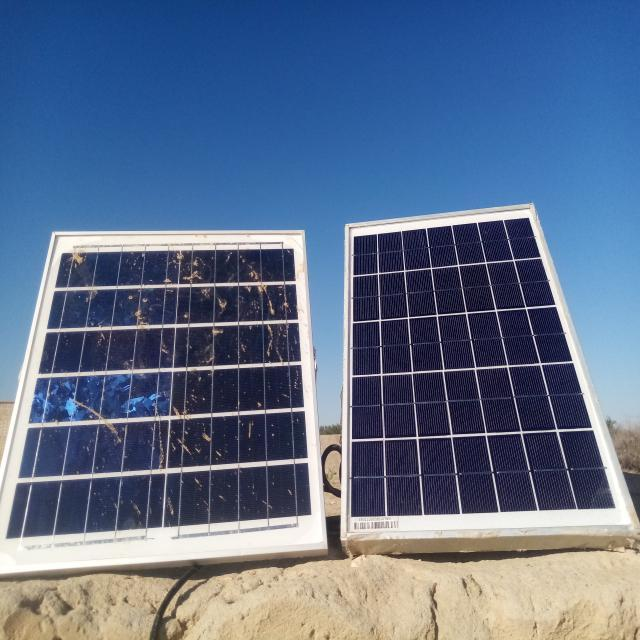faulty: (0, 230, 328, 576)
no faulty: (345, 203, 640, 539)
